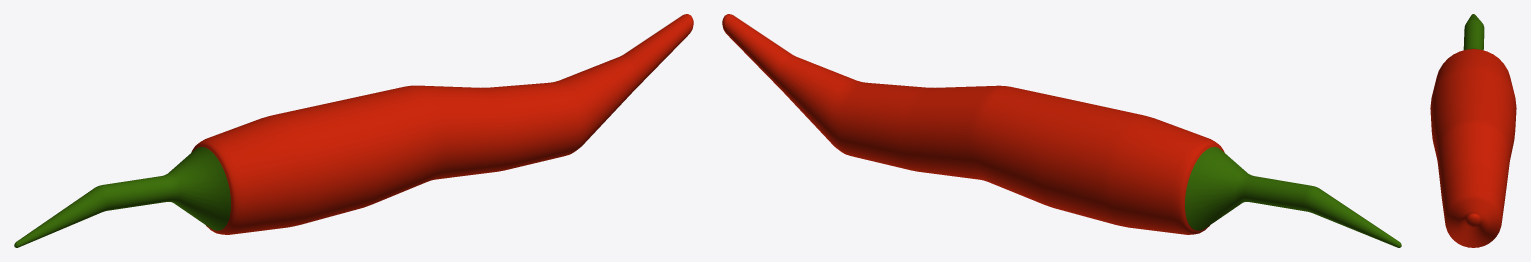
The model's file is chilli.fbx.
3 views of the same model, side by side, from view 1: azimuth 30°, elevation 25°; view 2: azimuth 150°, elevation 25°; view 3: azimuth 270°, elevation 25° (orthographic). The views are drawn at different scales.
Visible parts, largest first — view 1: chilli; view 2: chilli; view 3: chilli.
Part boxes in pixels (left/top/right/bottom): chilli: left=14, top=14, right=693, bottom=247; chilli: left=722, top=14, right=1401, bottom=247; chilli: left=1430, top=14, right=1516, bottom=247.
Bounding box in the file's own units: 424 × 65.08 × 61.57.
